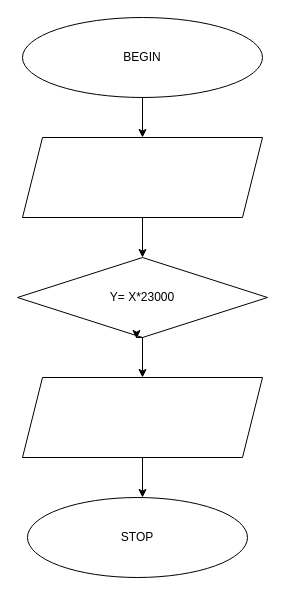
Image size: 285x595. Some labels were removed from this diagram. Here are the shapes that lost their labels. From the top down, the centre of each, then its label:
At (142,177): "DO LA= X VIET NAM= Y".
At (142,417): "DISPLAY Y".
